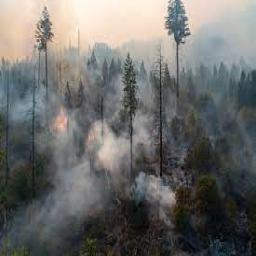Heavy smoke: (0, 40, 256, 256)
